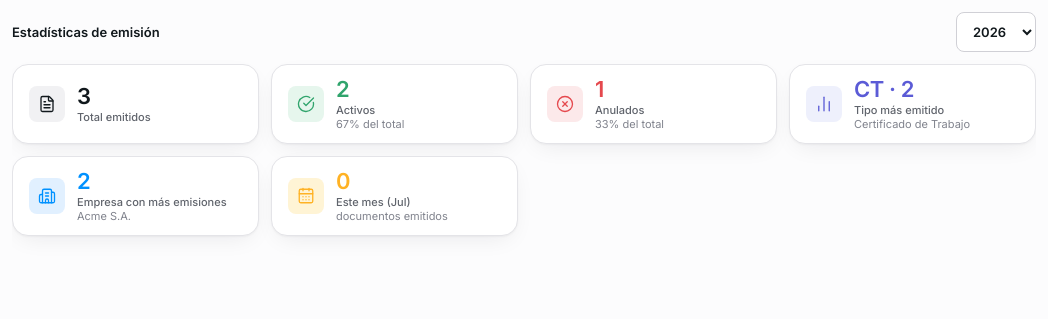
Test: popover por tipo › opens on click and groups documents by tipo with correct counts
Click the button "CT · 2 Tipo más emitido Certificado de Trabajo" at (912, 104), box [789, 64, 1036, 144]
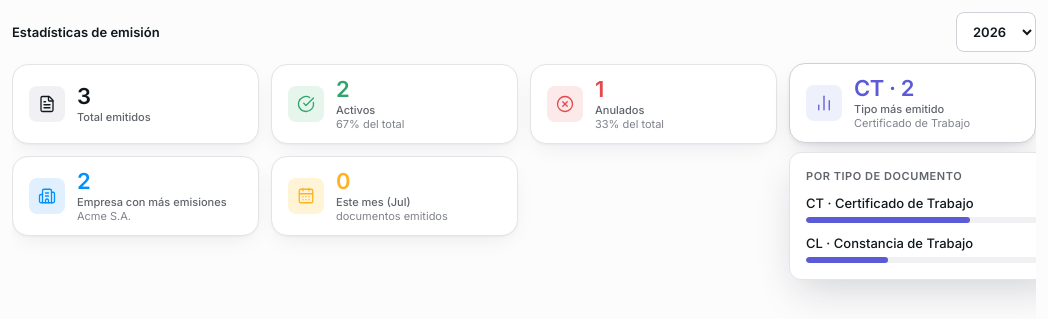
Expected: the 1st text "2" is shown, [336, 76, 349, 102]
Expected: the text "CT · Certificado de Trabajo" is shown, [806, 195, 974, 211]
Expected: the text "CL · Constancia de Trabajo" is shown, [806, 235, 973, 251]
